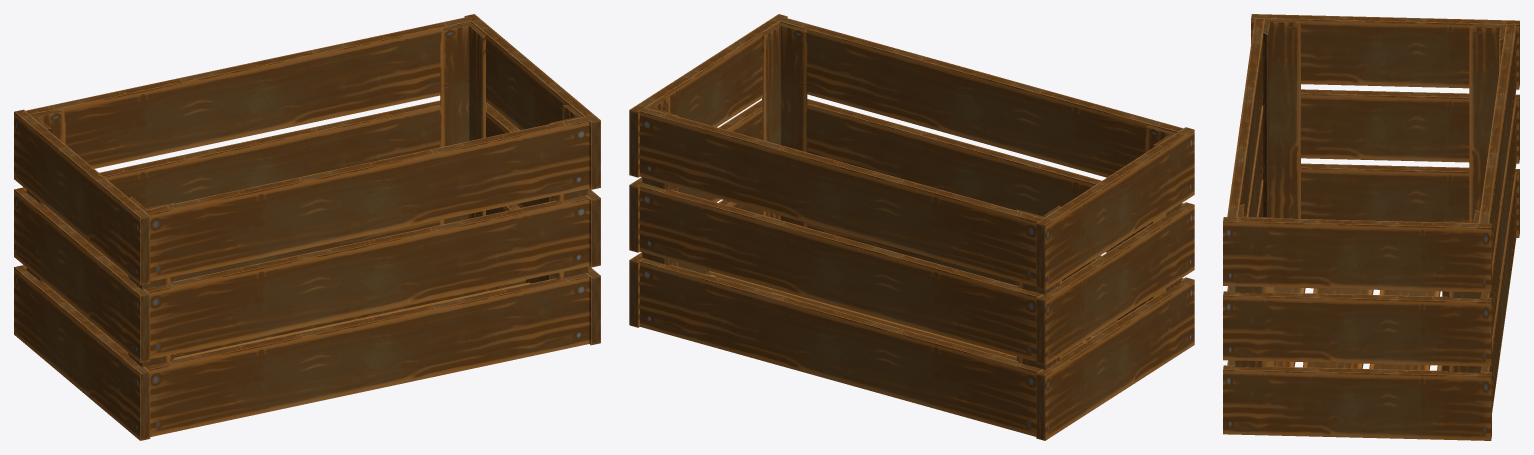
The picture shows the model from 3 angles, left to right: view 1: azimuth 30°, elevation 25°; view 2: azimuth 150°, elevation 25°; view 3: azimuth 270°, elevation 25°; orthographic projection. The views are drawn at different scales.
Visible parts, largest first — view 1: Cube.1871; view 2: Cube.1871; view 3: Cube.1871.
Boxes of the visible parts, left/top/right/bottom form: Cube.1871: left=14, top=14, right=600, bottom=440; Cube.1871: left=629, top=14, right=1194, bottom=440; Cube.1871: left=1223, top=14, right=1519, bottom=440.
Bounding box in the file's own units: 205 × 95.26 × 120.
Materials: 1 (1 with a texture image).
